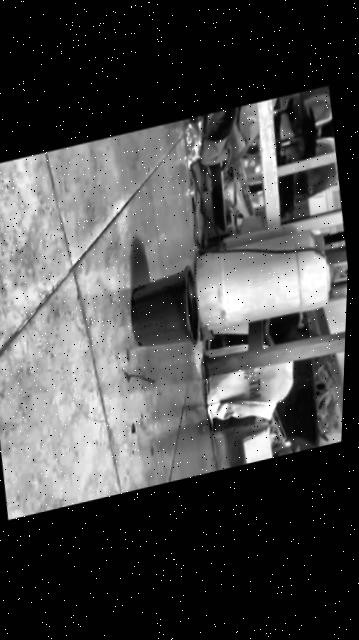pot: (124, 263, 204, 358)
